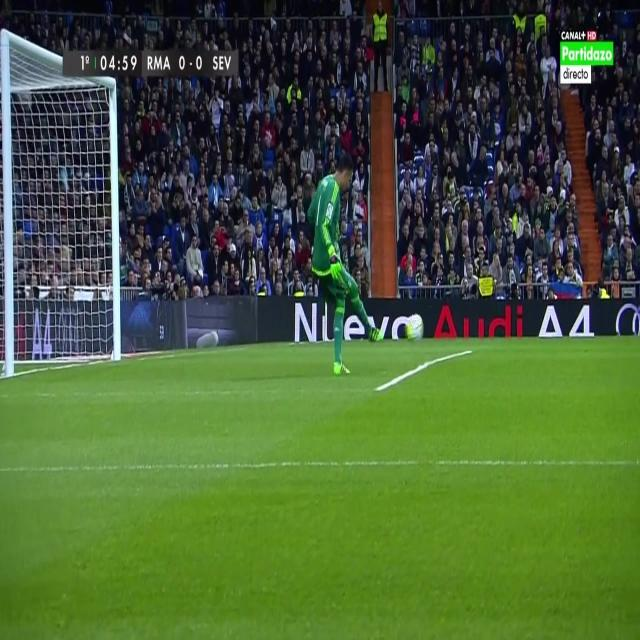Ball: (405, 311, 424, 347)
Goalkeeper: (306, 152, 383, 376)
